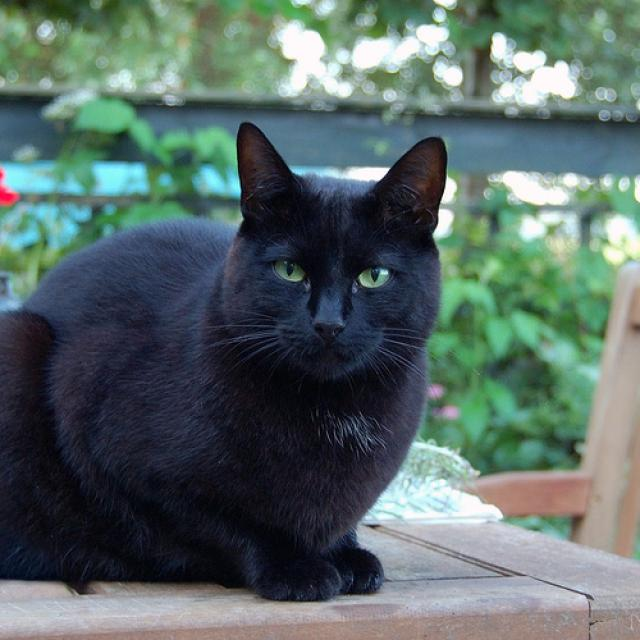cat: (1, 120, 449, 603)
